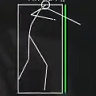hacks_1: (17, 1, 81, 94)
